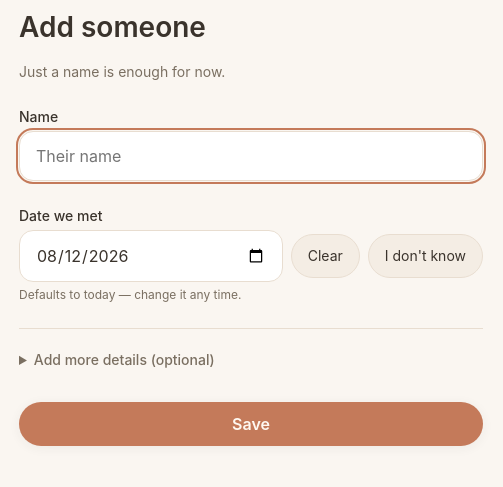
AddPersonView — capture-first add › does not save when name is blank, and shows no blocking validation on optional fields
Click the button "Save". click: (251, 424)
box: [19,402,483,446]
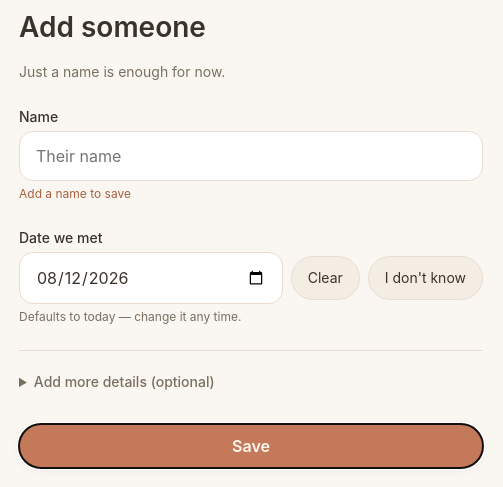
Now the message shows "name", box [19,186,131,201]
